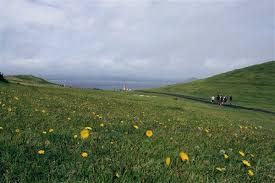field: (8, 79, 269, 180)
sky: (1, 2, 270, 78)
